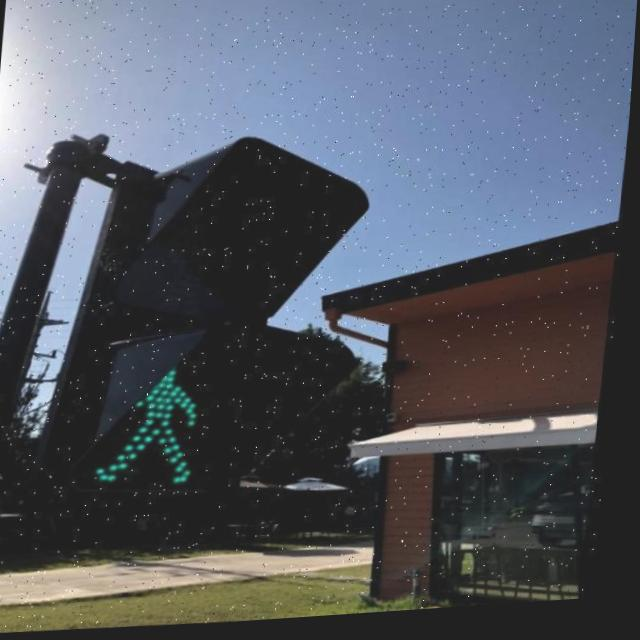green_light: (93, 339, 234, 508)
